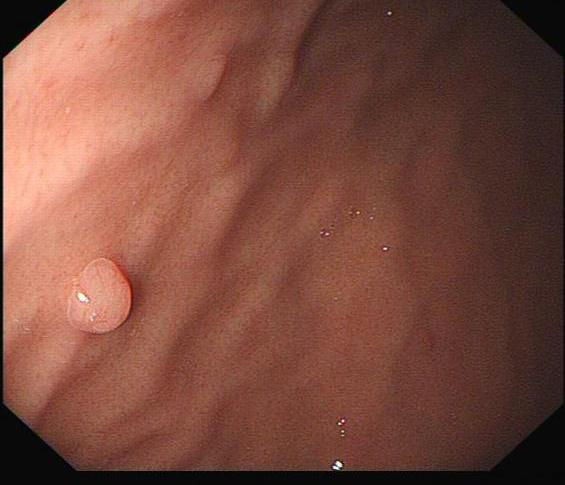Polyp: (65, 257, 141, 340)
